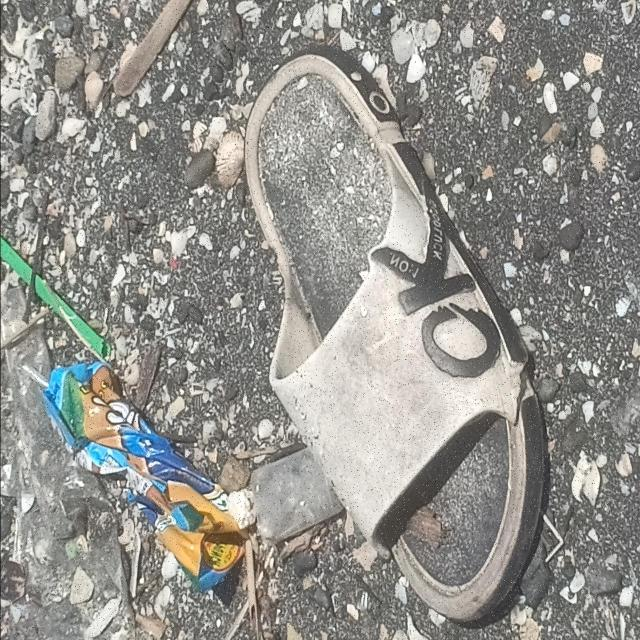plastic_waste: (44, 359, 244, 588), (1, 238, 105, 356)
rubber_waste: (244, 52, 550, 630)
